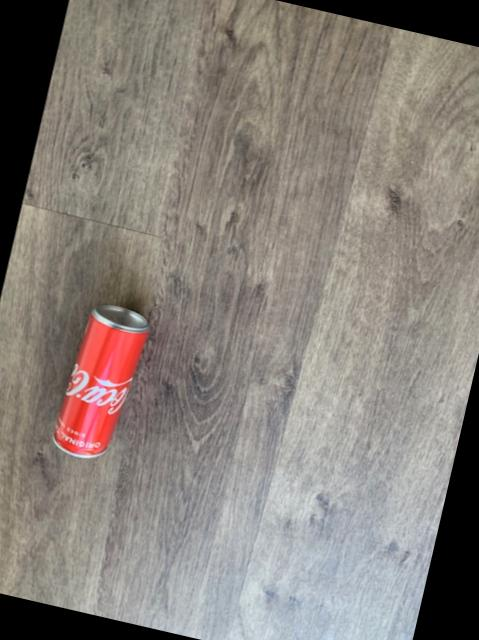metal: (52, 303, 146, 455)
